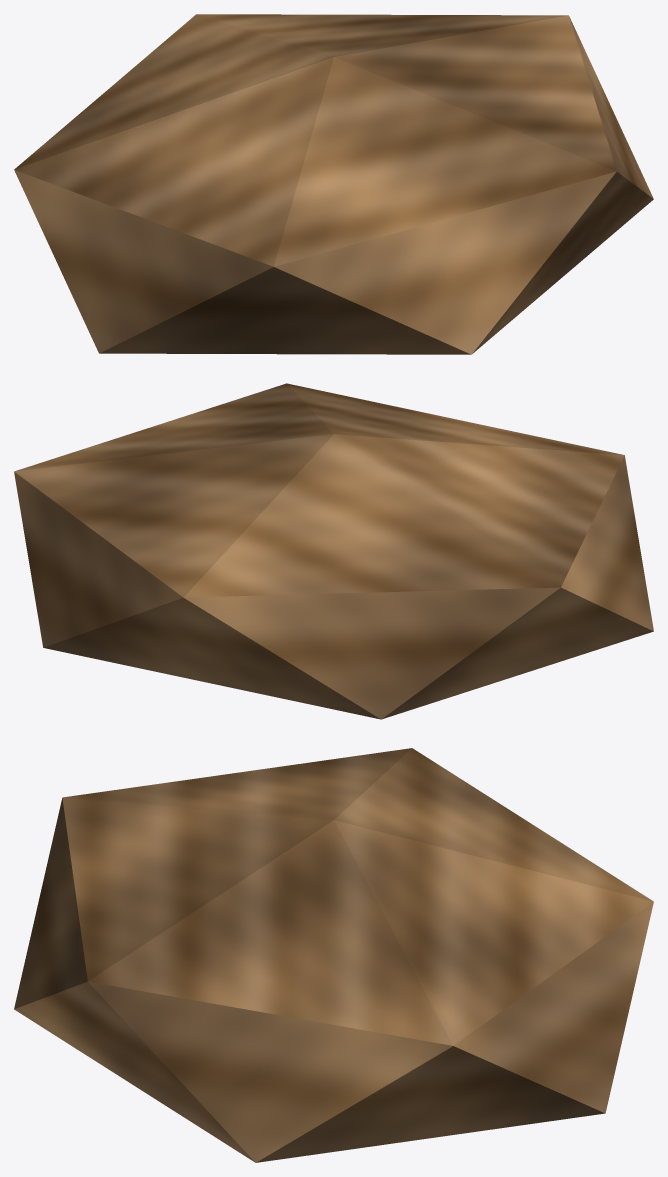
The model's file is 2027_sandstone_talus_22.dae.
The picture shows the model from 3 angles, top to bottom: view 1: azimuth 30°, elevation 25°; view 2: azimuth 150°, elevation 25°; view 3: azimuth 270°, elevation 25°; orthographic projection. The views are drawn at different scales.
Parts seen in each view (by area): view 1: Node; view 2: Node; view 3: Node.
Boxes of the visible parts, box(x1,y1,x2,y2) form: Node: box(14, 14, 653, 354); Node: box(14, 383, 653, 719); Node: box(14, 748, 653, 1162).
Bounding box in the file's own units: 1.3 × 1.16 × 0.5414.
1 material, 1 textured.
